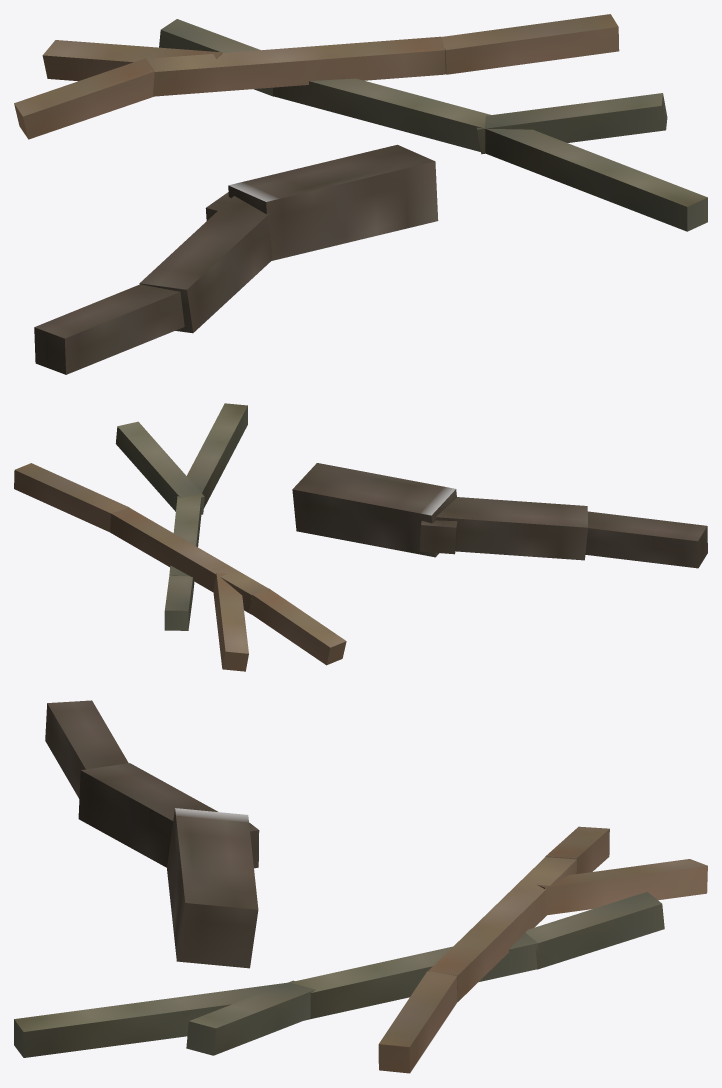
File: floortwig.obj
3 views of the same model, one above another, from view 1: azimuth 30°, elevation 25°; view 2: azimuth 150°, elevation 25°; view 3: azimuth 270°, elevation 25° (orthographic). The views are drawn at different scales.
Parts seen in each view (by area): view 1: cube; view 2: cube; view 3: cube.
Part boxes in pixels (bbox=[...]): cube: bbox=[14, 14, 707, 374]; cube: bbox=[14, 403, 707, 671]; cube: bbox=[14, 700, 707, 1073].
Bounding box in the file's own units: 1.43 × 0.1381 × 1.13.
